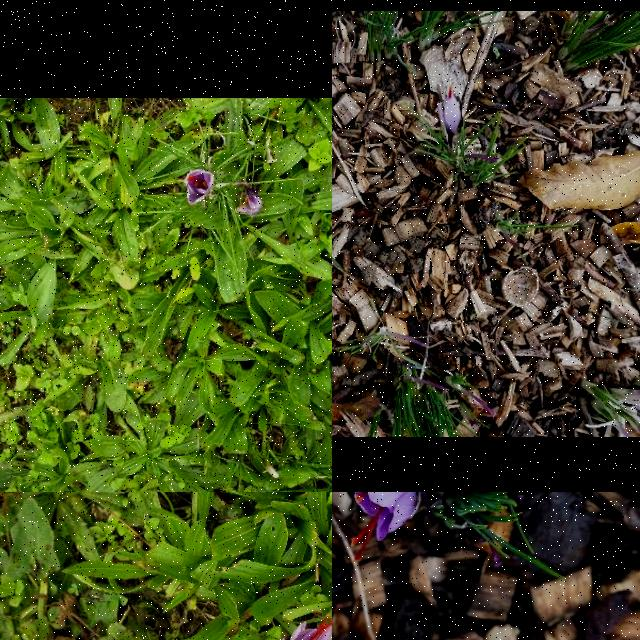flower: (351, 492, 419, 562), (270, 615, 332, 640), (442, 87, 462, 139), (184, 170, 213, 204)
